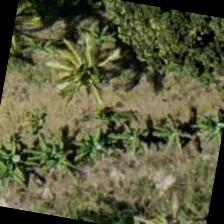Kelapa_Sawit: (34, 11, 138, 116), (130, 176, 212, 223)
